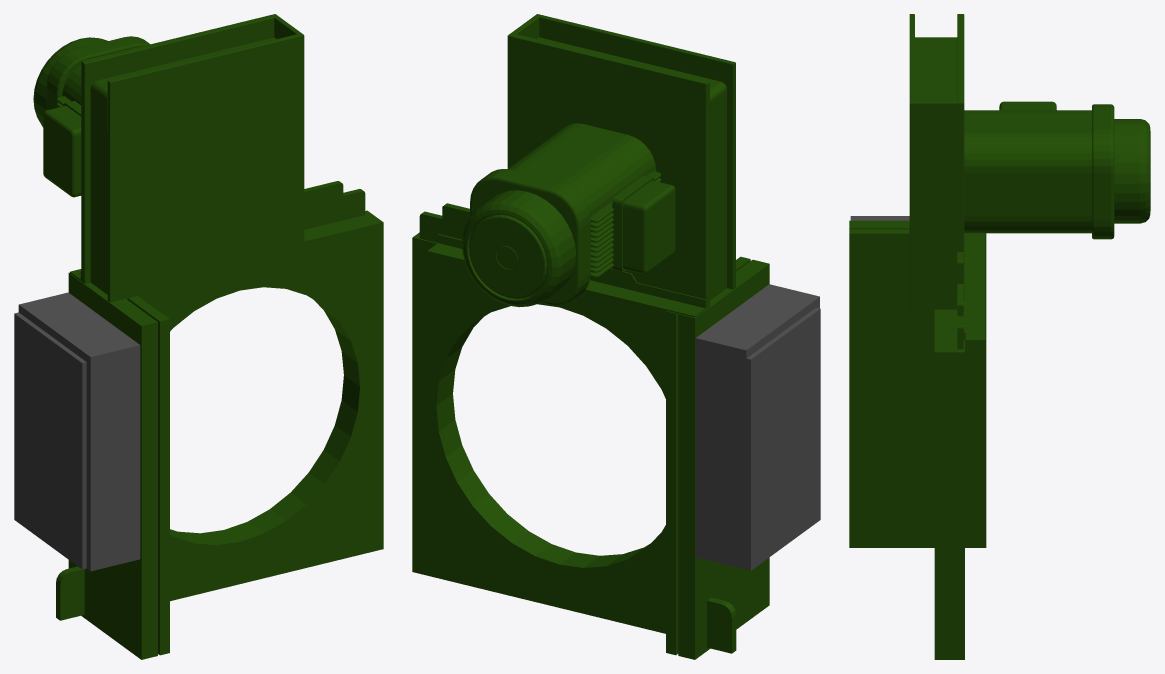
The model's file is debarker_centerDoor.glb.
3 renders of one model, left to right at view 1: azimuth 30°, elevation 25°; view 2: azimuth 150°, elevation 25°; view 3: azimuth 270°, elevation 25°, orthographic. The views are drawn at different scales.
Visible parts, largest first — view 1: Center_access; view 2: Center_access; view 3: Center_access.
Part boxes in pixels (left/top/right/bottom): Center_access: left=14, top=14, right=383, bottom=659; Center_access: left=412, top=14, right=820, bottom=659; Center_access: left=849, top=14, right=1150, bottom=659.
Bounding box in the file's own units: 1.76 × 2.72 × 1.43.
